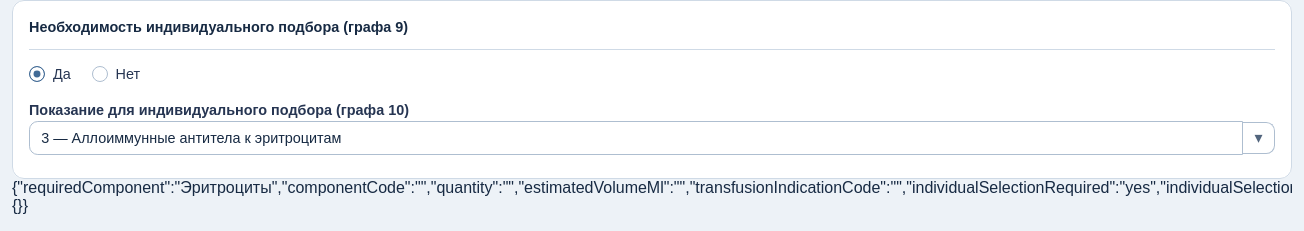
Test: clears the requested selection and its code when the selected radio is clicked again
Click the radio button labelled "Да": (37, 74) [29, 66, 45, 82]
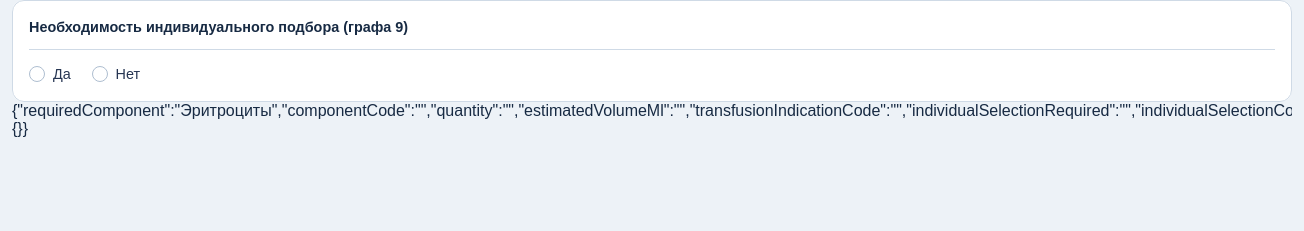
Click the radio button labelled "Нет": (100, 74) [92, 66, 108, 82]
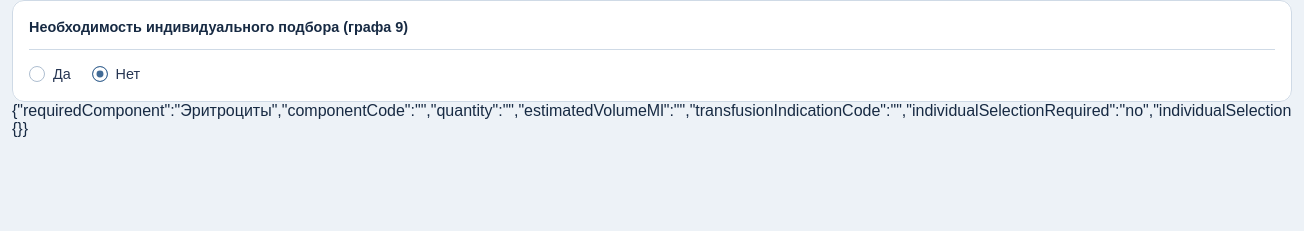
Check: the radio button labelled "Нет" is checked
Click the radio button labelled "Нет": (100, 74) [92, 66, 108, 82]
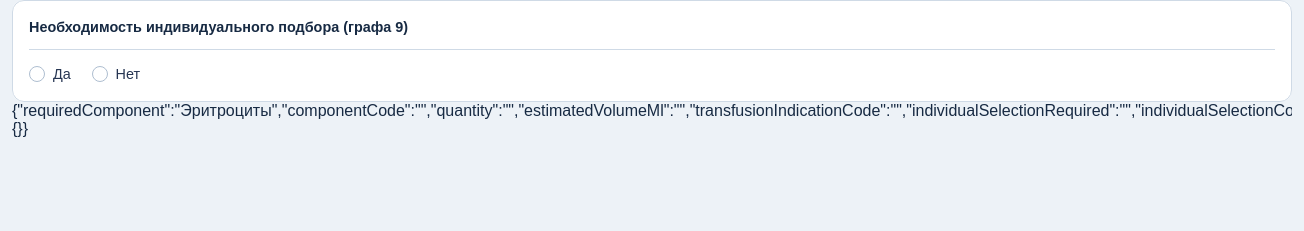
Check: the radio button labelled "Нет" is not checked, box [92, 66, 108, 82]
